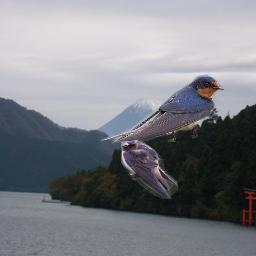Swallow: (101, 74, 225, 144), (120, 138, 178, 199)
